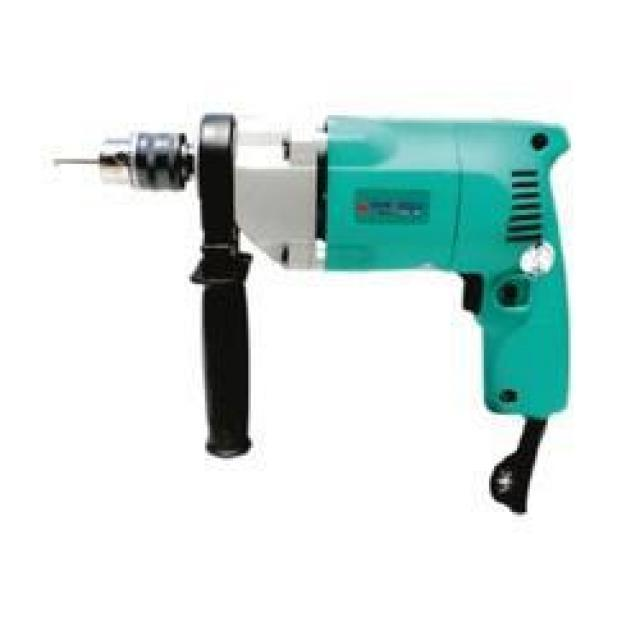drill: (55, 114, 572, 518)
